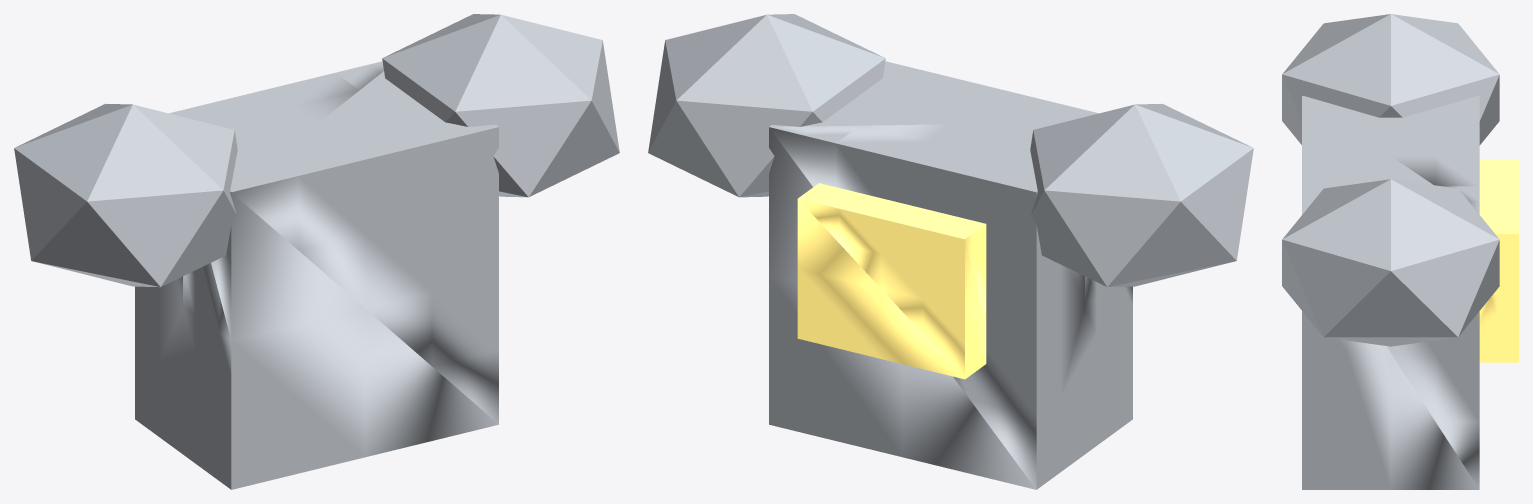
The model's file is armor.glb.
3 renders of one model, left to right at view 1: azimuth 30°, elevation 25°; view 2: azimuth 150°, elevation 25°; view 3: azimuth 270°, elevation 25°, orthographic. The views are drawn at different scales.
Visible parts, largest first — view 1: ArmorTorso; view 2: ArmorTorso; view 3: ArmorTorso.
Part boxes in pixels (bbox=[...]): ArmorTorso: bbox=[14, 14, 619, 489]; ArmorTorso: bbox=[648, 14, 1253, 489]; ArmorTorso: bbox=[1282, 14, 1518, 489].
Size of the model in its own units: 1.71 by 1.04 by 0.6662.
